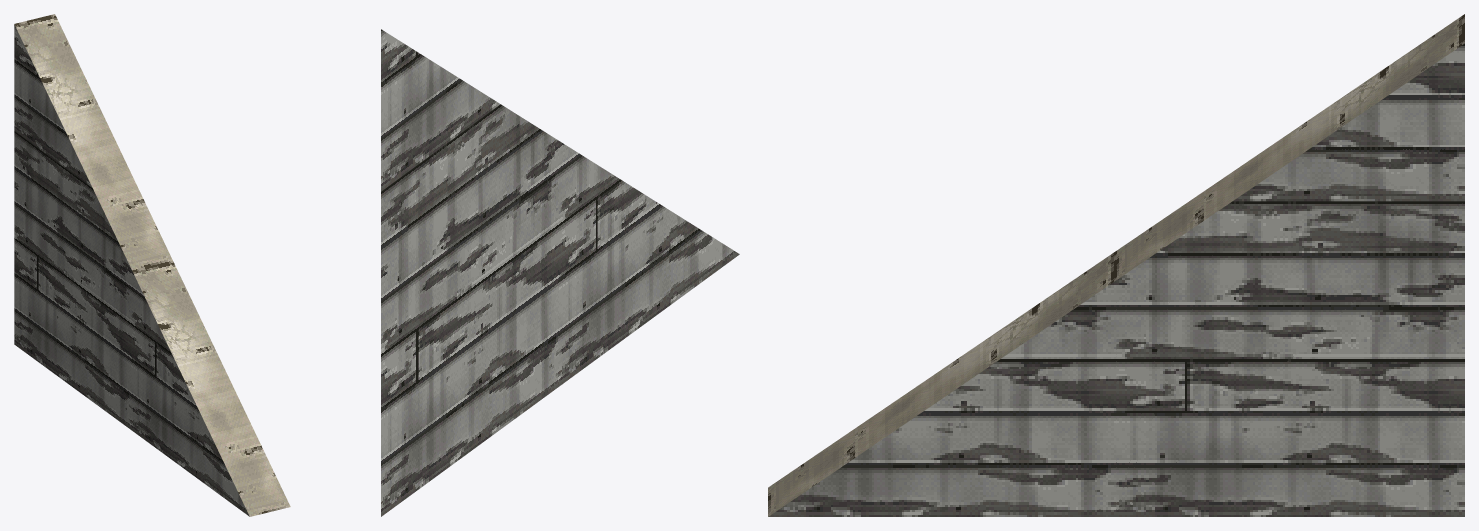
File: house_roof_gable.glb
3 views of the same model, side by side, from view 1: azimuth 30°, elevation 25°; view 2: azimuth 150°, elevation 25°; view 3: azimuth 270°, elevation 25° (orthographic). The views are drawn at different scales.
Parts seen in each view (by area): view 1: house_roof_gable; view 2: house_roof_gable; view 3: house_roof_gable.
Boxes of the visible parts, x1,y1,x2,y2 form: house_roof_gable: [14, 14, 290, 516]; house_roof_gable: [381, 29, 739, 516]; house_roof_gable: [768, 14, 1464, 516].
Bounding box in the file's own units: 0.2 × 1.5 × 2.
2 materials, 2 textured.
